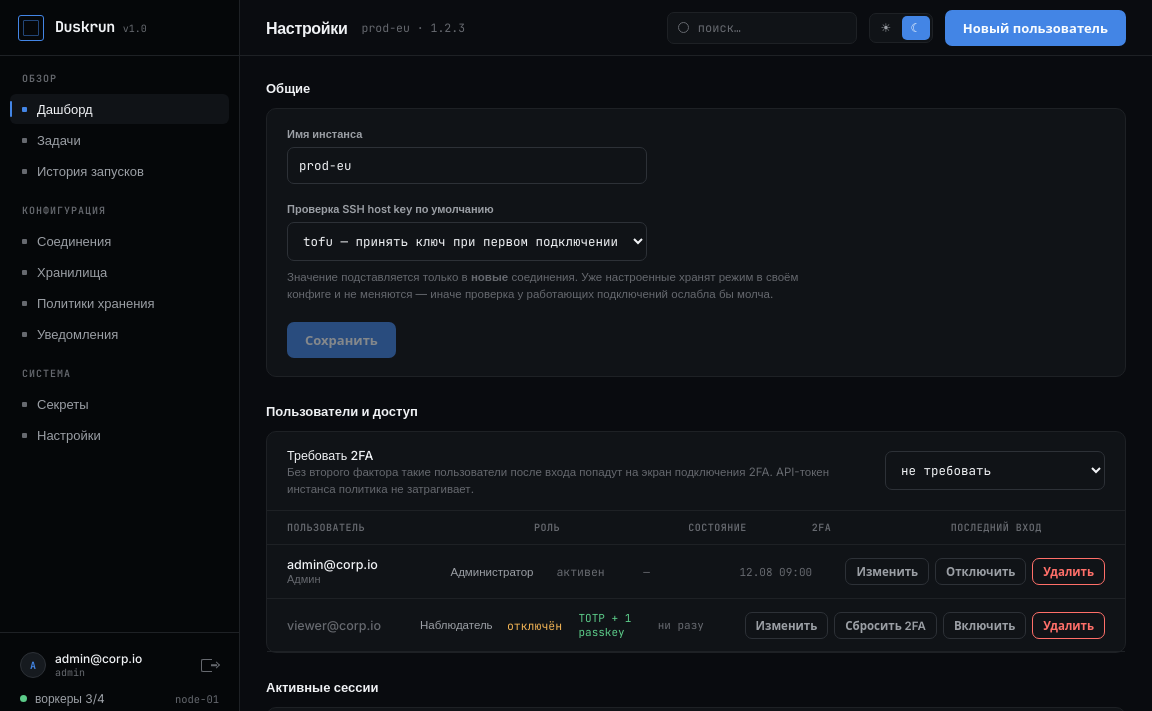
Test case: TestAdminResetsMFA: confirmation dialog, then POST /users/{id}/mfa/reset
This screenshot has width=1152, height=711.
Click the button "Сбросить 2FA" at (886, 625), box x1=834 y1=612 x2=937 y2=638
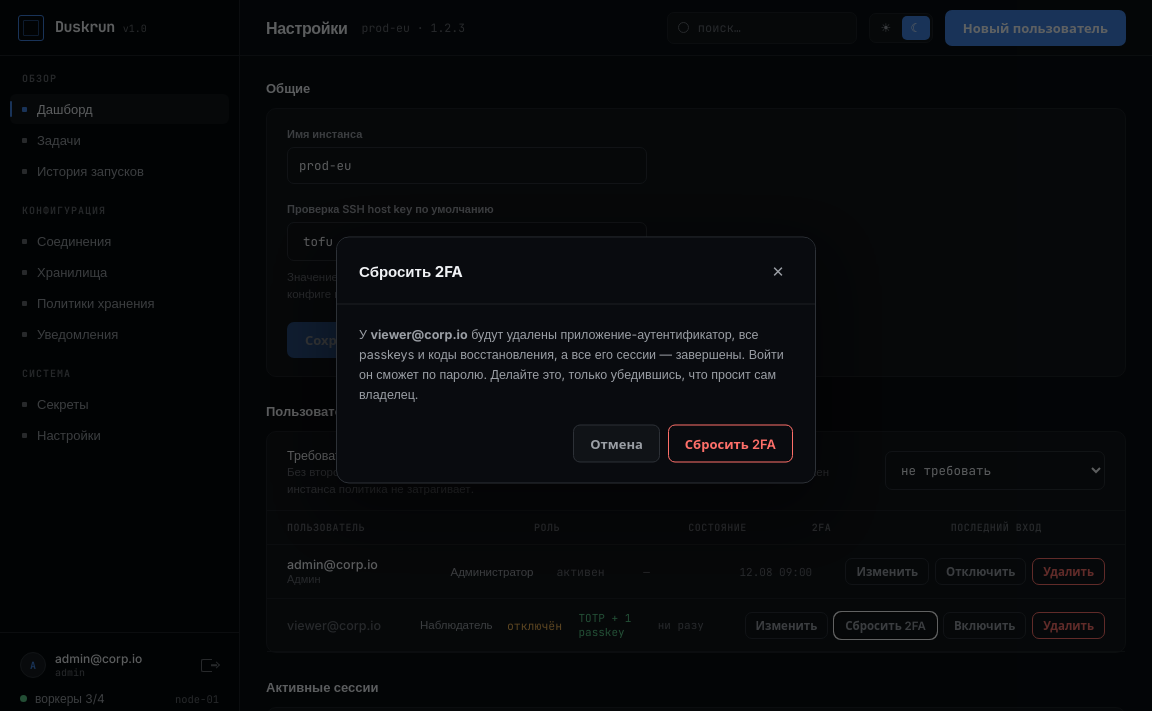
Now the dialog shows "viewer@corp.io", box x1=370 y1=326 x2=468 y2=342
Click the button "Сбросить 2FA" at (730, 444), box x1=668 y1=424 x2=793 y2=462
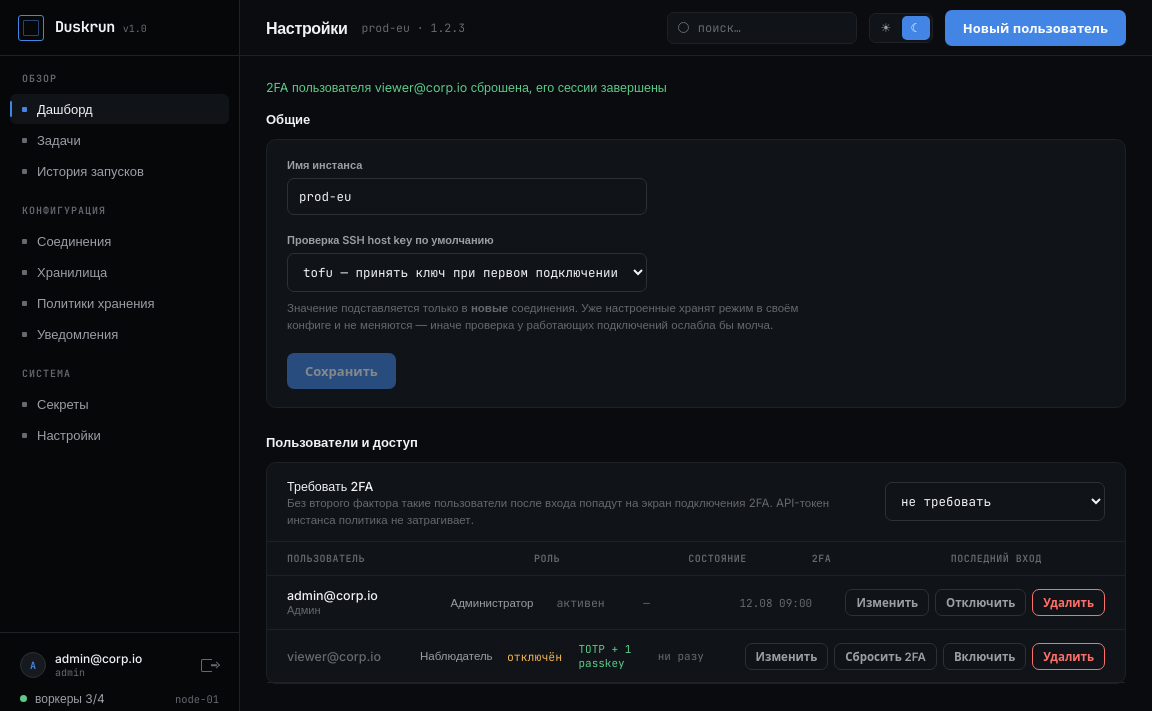
Now the message shows "2FA пользователя viewer@corp.io сброшена", box x1=266 y1=80 x2=667 y2=95
